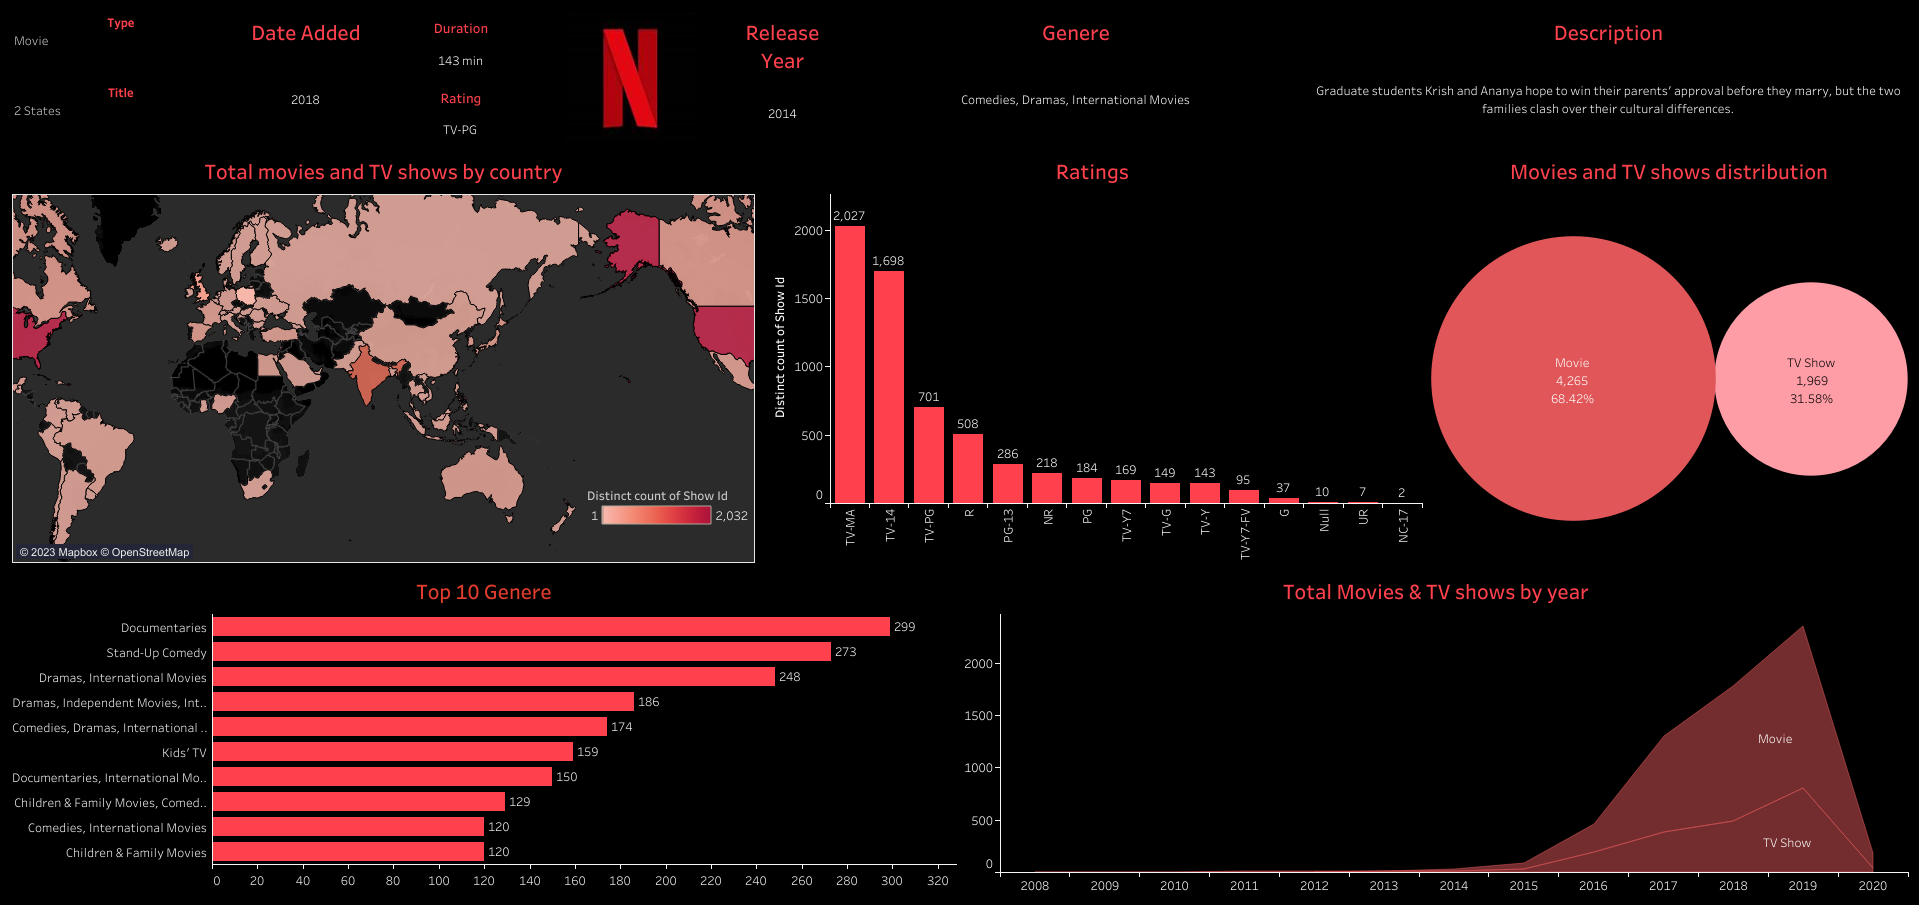

The dashboard page shown, as its layout file describes it:
{"tool":"tableau","page":{"name":"Netflix","canvas":[1000,1000],"units":"permille","ordinal":0},"visuals":[{"type":"filter","title":"Descrption","param":"[federated.1006njb0tnjzzd18k5x3b091uh3w].[none:type:nk]","box":[4.2,8.4,117.6,76.9]},{"type":"worksheet","title":"Date Added","mark":"Automatic","box":[121.8,8.4,75.3,154]},{"type":"worksheet","title":"Duration","mark":"Automatic","box":[197.1,8.4,86.3,76.9]},{"type":"image","param":"Image/Screenshot 2023-11-03 131525.png","box":[283.4,8.4,90.7,154]},{"type":"worksheet","title":"Release Year","mark":"Automatic","box":[374.1,8.4,67.1,154]},{"type":"worksheet","title":"Genere","mark":"Automatic","box":[441.2,8.4,238.6,154]},{"type":"worksheet","title":"Descrption","mark":"Automatic","box":[679.8,8.4,316,154]},{"type":"filter","title":"Descrption","param":"[federated.1006njb0tnjzzd18k5x3b091uh3w].[none:title:nk]","box":[4.2,85.3,117.6,77.1]},{"type":"worksheet","title":"Rating","mark":"Automatic","box":[197.1,85.3,86.3,77.1]},{"type":"worksheet","title":"Total movies and TV shows","mark":"Multipolygon","box":[4.2,162.4,391.2,463.7]},{"type":"worksheet","title":"Ratings","mark":"Automatic","rows":["show_id"],"cols":["rating"],"box":[395.4,162.4,347.5,463.7]},{"type":"worksheet","title":"Movies and TV shows","mark":"Circle","box":[742.9,162.4,253,463.7]},{"type":"legend","title":"Total movies and TV shows","param":"[federated.1006njb0tnjzzd18k5x3b091uh3w].[ctd:show_id:qk]","box":[305.5,531.9,86.8,87.9]},{"type":"worksheet","title":"Top 10 Genere","mark":"Automatic","rows":["listed_in"],"cols":["show_id"],"box":[4.2,626,495.8,365.6]},{"type":"worksheet","title":"Total Movies","mark":"Area","rows":["show_id"],"cols":["date_added"],"box":[499.9,626,495.9,365.6]}]}

Visuals, with their boxes on the dashboard's canvas, which has no fixed pixel size, in thousandths of its width and height (x1, y1, x2, y2). These are canvas units, not pixel positions in the 1919x905 screenshot, which may show the page scaled, cropped or inside an application window:
"Descrption" filter: Rect(4, 8, 122, 85)
"Date Added" worksheet: Rect(122, 8, 197, 162)
"Duration" worksheet: Rect(197, 8, 283, 85)
image: Rect(283, 8, 374, 162)
"Release Year" worksheet: Rect(374, 8, 441, 162)
"Genere" worksheet: Rect(441, 8, 680, 162)
"Descrption" worksheet: Rect(680, 8, 996, 162)
"Descrption" filter: Rect(4, 85, 122, 162)
"Rating" worksheet: Rect(197, 85, 283, 162)
"Total movies and TV shows" worksheet (Multipolygon marks): Rect(4, 162, 395, 626)
"Ratings" worksheet: Rect(395, 162, 743, 626)
"Movies and TV shows" worksheet (Circle marks): Rect(743, 162, 996, 626)
"Total movies and TV shows" legend: Rect(306, 532, 392, 620)
"Top 10 Genere" worksheet: Rect(4, 626, 500, 992)
"Total Movies" worksheet (Area marks): Rect(500, 626, 996, 992)
